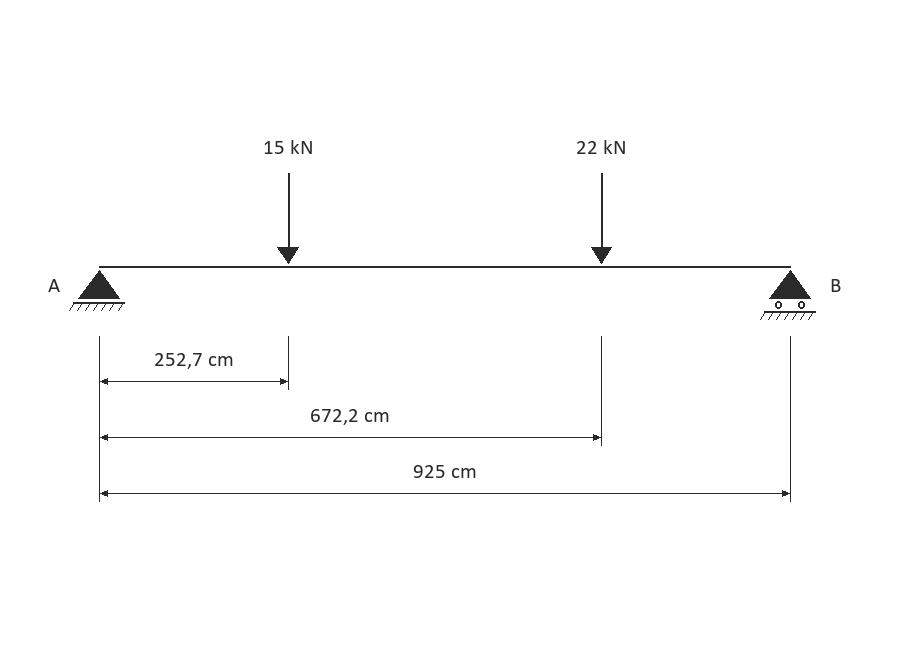pin_support: (69, 270, 125, 311)
point_load: (277, 173, 299, 264), (591, 173, 612, 264)
roller_support: (760, 270, 816, 320)
